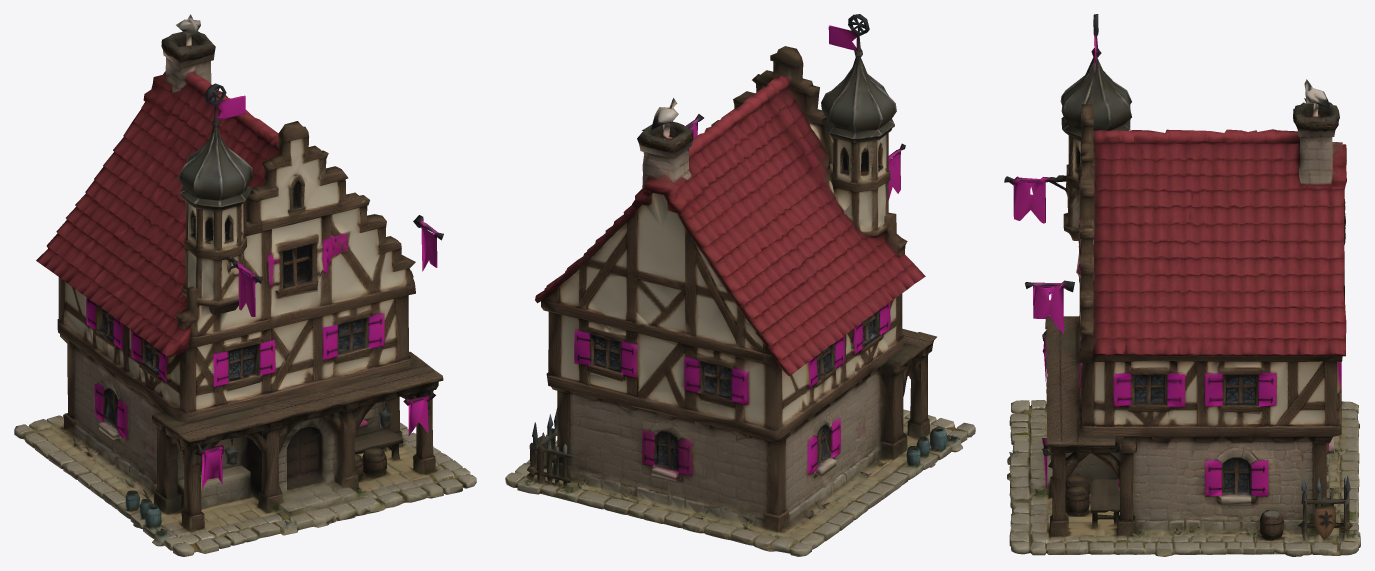
The model's file is model_tripo_h31.glb.
3 views of the same model, side by side, from view 1: azimuth 30°, elevation 25°; view 2: azimuth 150°, elevation 25°; view 3: azimuth 270°, elevation 25° (orthographic).
Visible parts, largest first — view 1: tripo_node_884254e3-6cad-41f5-ba3d-cebed6fddec0; view 2: tripo_node_884254e3-6cad-41f5-ba3d-cebed6fddec0; view 3: tripo_node_884254e3-6cad-41f5-ba3d-cebed6fddec0.
Part boxes in pixels (left/top/right/bottom): tripo_node_884254e3-6cad-41f5-ba3d-cebed6fddec0: left=14, top=14, right=476, bottom=556; tripo_node_884254e3-6cad-41f5-ba3d-cebed6fddec0: left=505, top=14, right=975, bottom=556; tripo_node_884254e3-6cad-41f5-ba3d-cebed6fddec0: left=1004, top=14, right=1360, bottom=556.
Bounding box in the file's own units: 0.7539 × 1 × 0.7499.
1 material, 1 textured.
